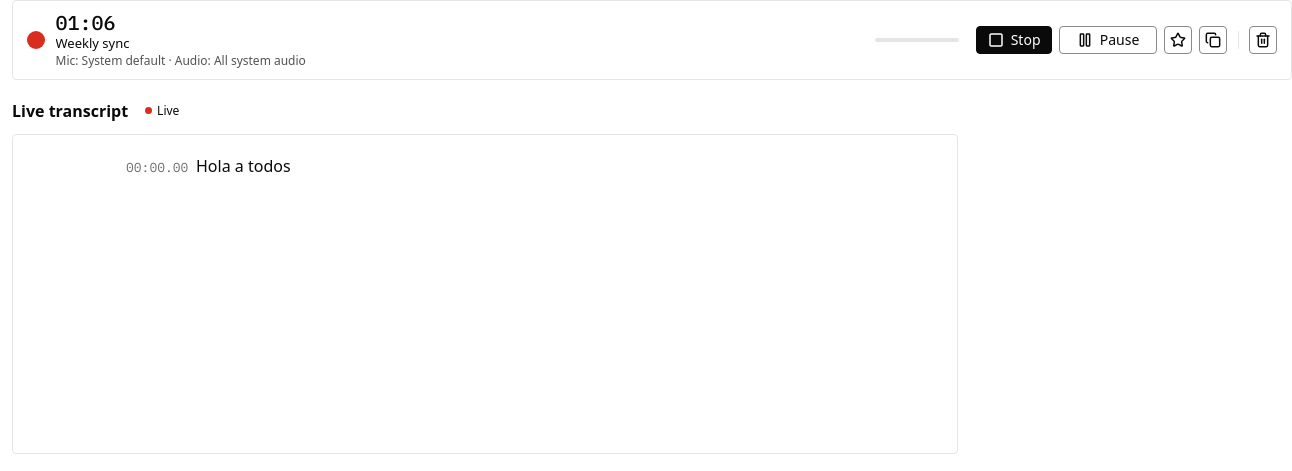
the recording bar content (items 50, 62) › names the highlight tooltip and the accelerators
The width and height of the screenshot is (1292, 471).
Hover over the button named "Highlight" at (1178, 40), box [1164, 26, 1192, 54]
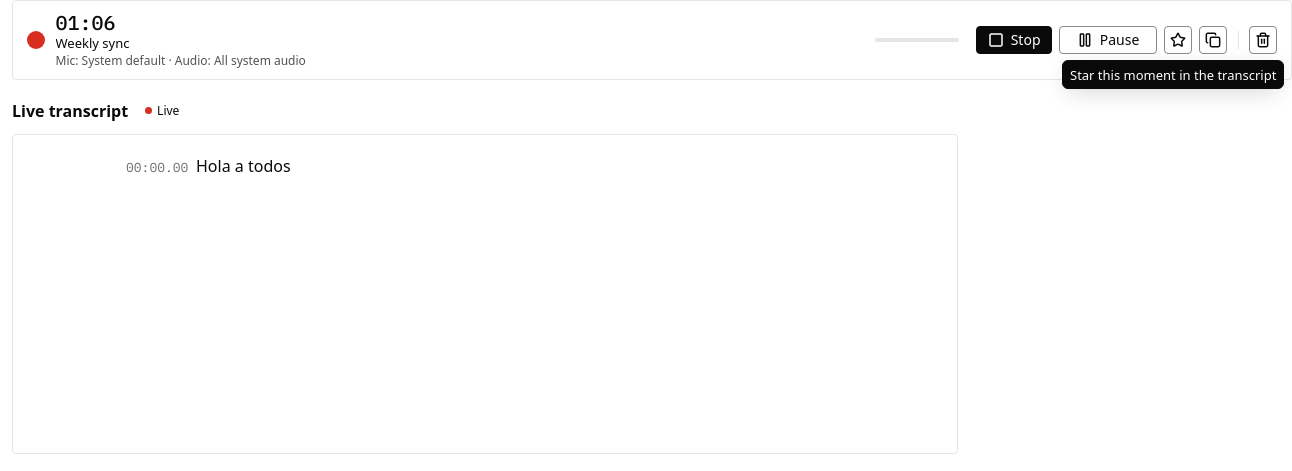
Result: the text "Star this moment in the transcript" is shown at [1062, 60, 1284, 89]
Hover over the button "Stop" at (1014, 40), box [976, 26, 1052, 54]
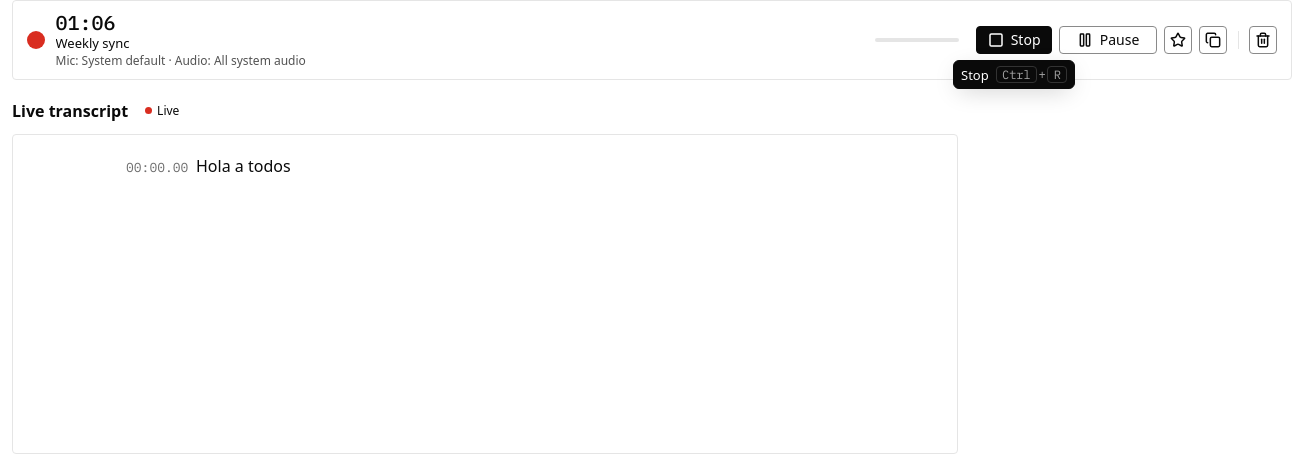
Result: the text "Ctrl" reads "Stop Ctrl + R" at [961, 64, 1067, 84]
